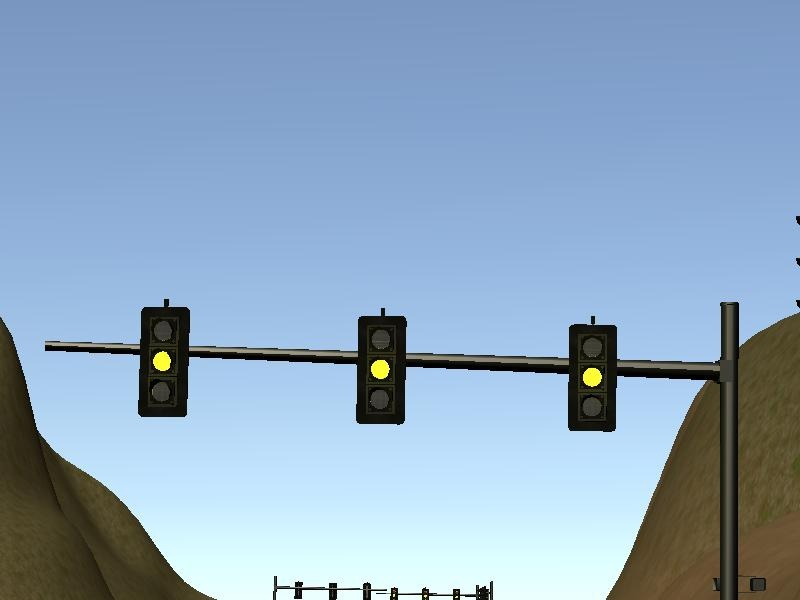YELLOW: (136, 296, 191, 420), (351, 304, 406, 428), (564, 311, 619, 435)
